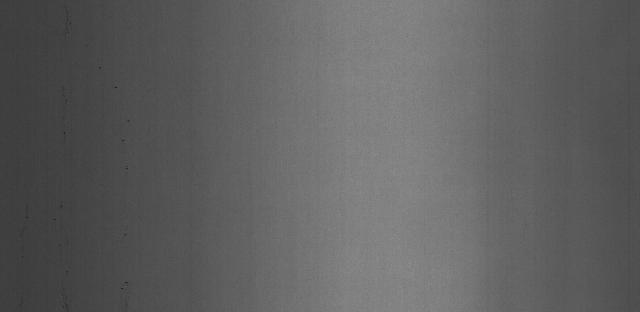silk_spot: (39, 87, 95, 154)
